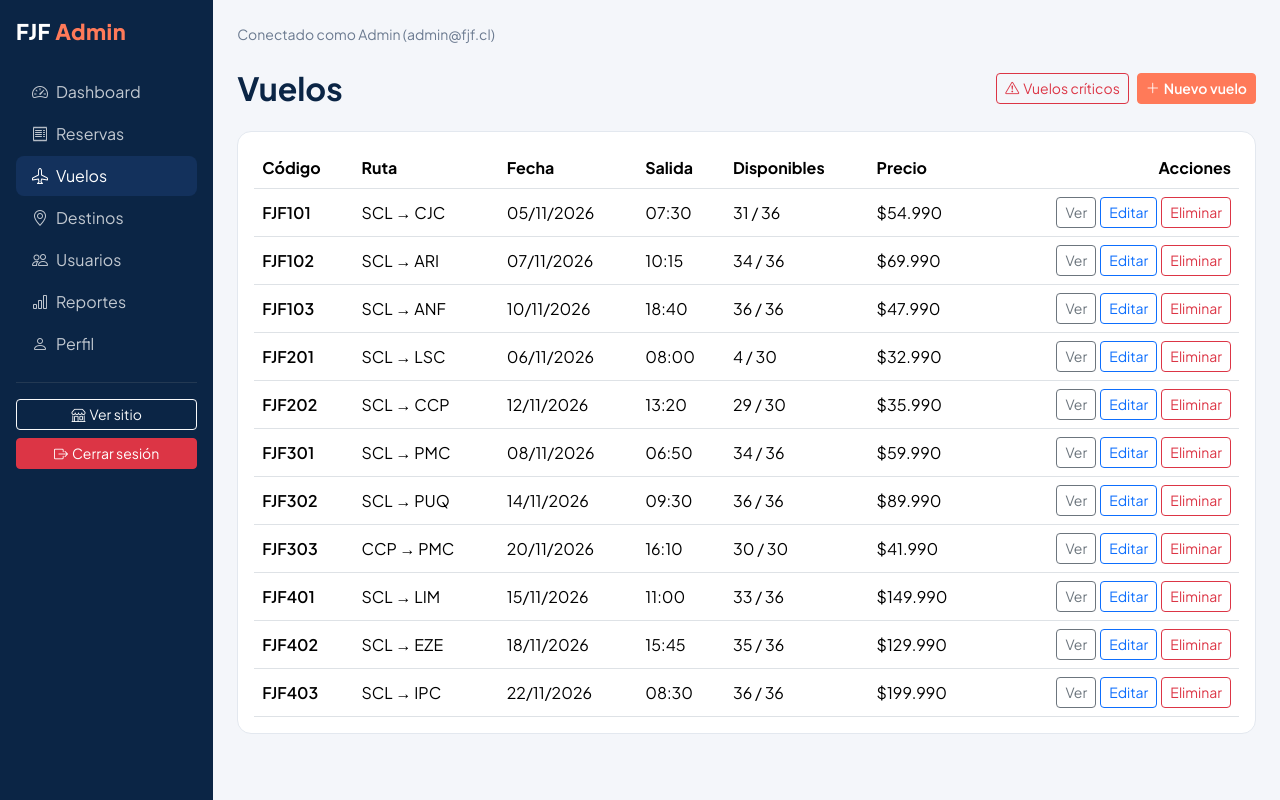
Panel de administración › el listado de vuelos permite eliminar un vuelo
The image size is (1280, 800).
Click the button "Eliminar" in the row of "FJF101" at (1196, 213), box [1161,197,1231,228]
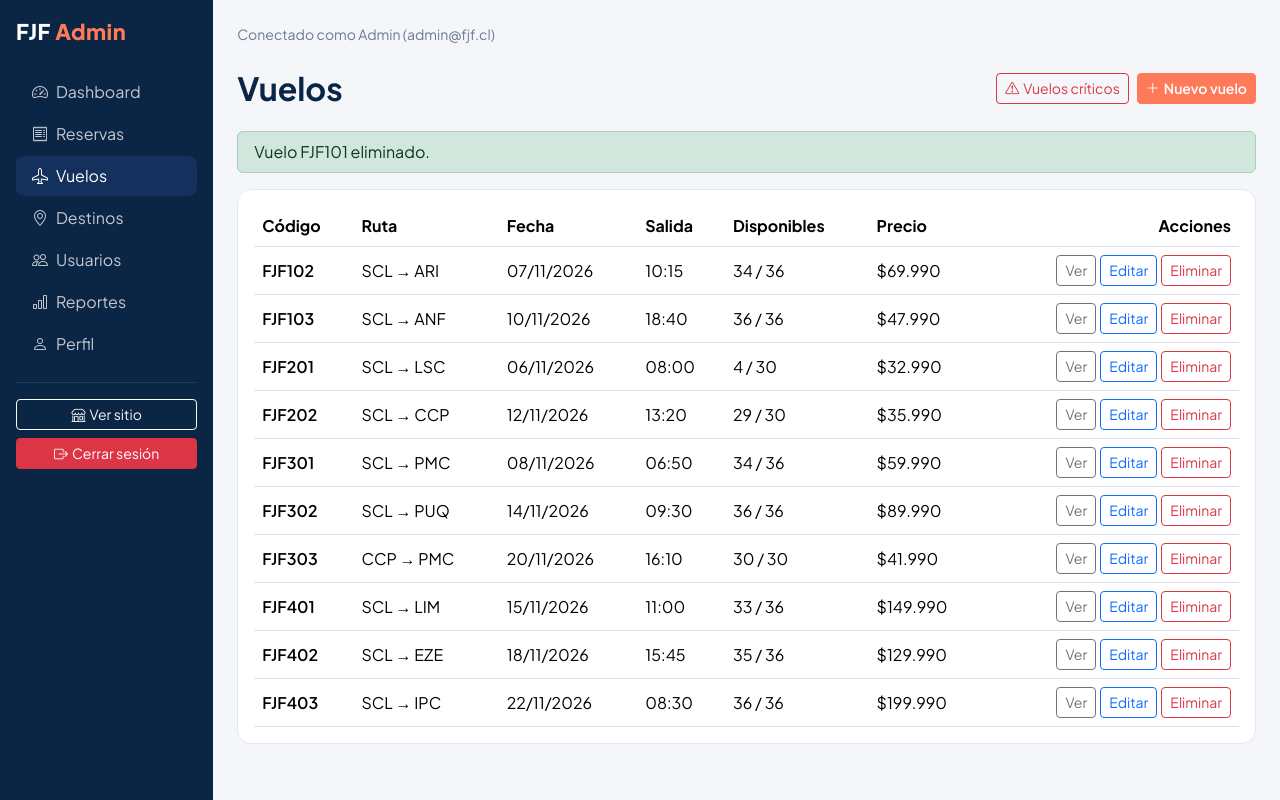
Expected: the text "Vuelo FJF101 eliminado." is shown, [237,131,1256,173]
